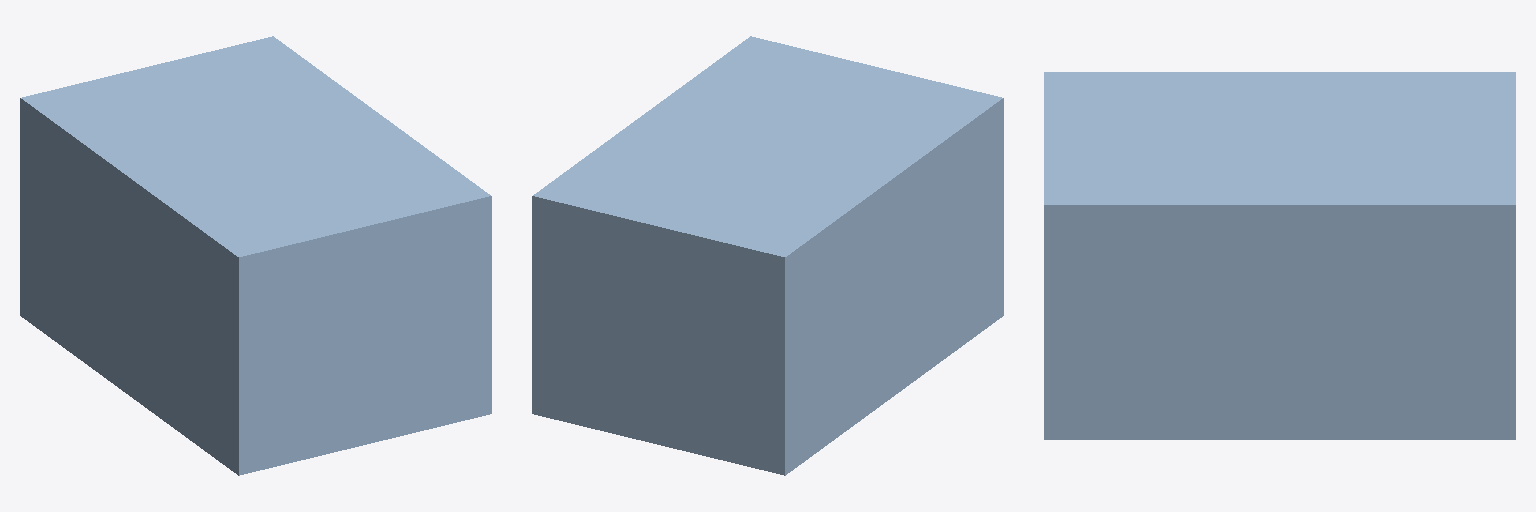
The robot description file, URDF, robot "box_0p4850_0p7250_0p4000":
<?xml version="1.0" ?>
<robot name="box_0p4850_0p7250_0p4000">
  <dynamics damping="0.5" friction="0.9"/>
  <link name="box_0p4850_0p7250_0p4000_link">
    <inertial>
      <mass value="0.1"/>
      <origin xyz="0 0 0"/>
      <inertia ixx="0.002" ixy="0" ixz="0" iyy="0.002" iyz="0" izz="0.002"/>
    </inertial>
    <contact>
      <lateral_friction value="0.9"/>
      <rolling_friction value="0.5"/>
      <stiffness value="30000"/>
      <damping value="1000"/>
    </contact>
    <visual>
      <origin rpy="0 0 0" xyz="0 0 0"/>
      <geometry>
        <mesh filename="box_0p4850_0p7250_0p4000.obj" scale="1.0 1.0 1.0"/>
      </geometry>
      <material name="mat">
        <color rgba="0.7 0.8 0.9 0.7"/>
      </material>
    </visual>
    <collision name="box_0p4850_0p7250_0p4000">
      <origin rpy="0 0 0" xyz="0 0 0"/>
      <geometry>
        <mesh filename="box_0p4850_0p7250_0p4000.obj" scale="1.0 1.0 1.0"/>
      </geometry>
    </collision>
  </link>
</robot>

--- What the picture shows (computed from the rendered views, not written in the file) ---
Views: 3 orthographic renders of the robot side by side, from view 1: azimuth 30°, elevation 25°; view 2: azimuth 150°, elevation 25°; view 3: azimuth 270°, elevation 25°.
Model box_0p4850_0p7250_0p4000 with 1 links and 0 joints (none), rooted at box_0p4850_0p7250_0p4000_link, posed every joint at zero.
Links seen in each view (by area): view 1: box_0p4850_0p7250_0p4000_link; view 2: box_0p4850_0p7250_0p4000_link; view 3: box_0p4850_0p7250_0p4000_link.
Boxes of the visible links, left/top/right/bottom form: box_0p4850_0p7250_0p4000_link: left=20, top=36, right=491, bottom=475; box_0p4850_0p7250_0p4000_link: left=532, top=36, right=1003, bottom=475; box_0p4850_0p7250_0p4000_link: left=1044, top=72, right=1515, bottom=439.
Bounding box of the posed robot: 0.485 × 0.725 × 0.4 m (x, y, z).
1 mesh visuals loaded from 1 distinct referenced files (1 OBJ).
